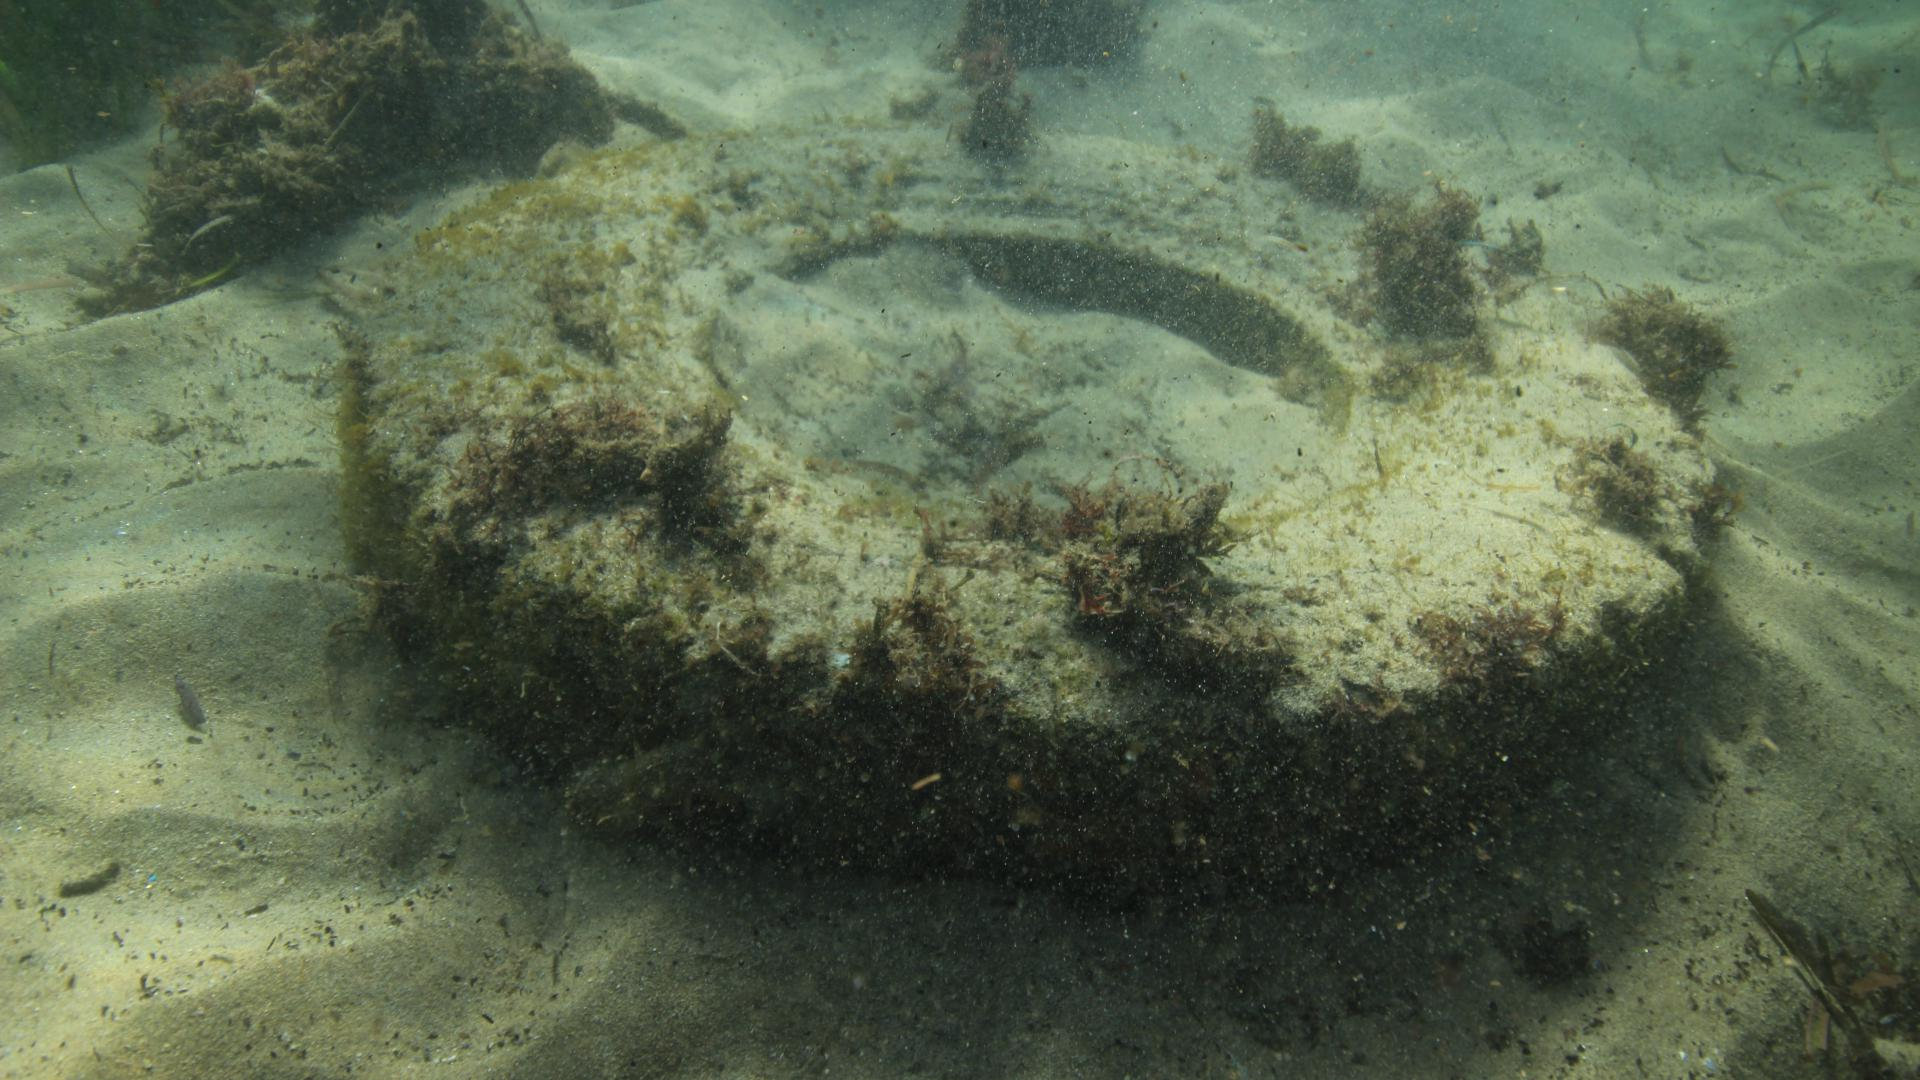tire: (356, 121, 1720, 916)
